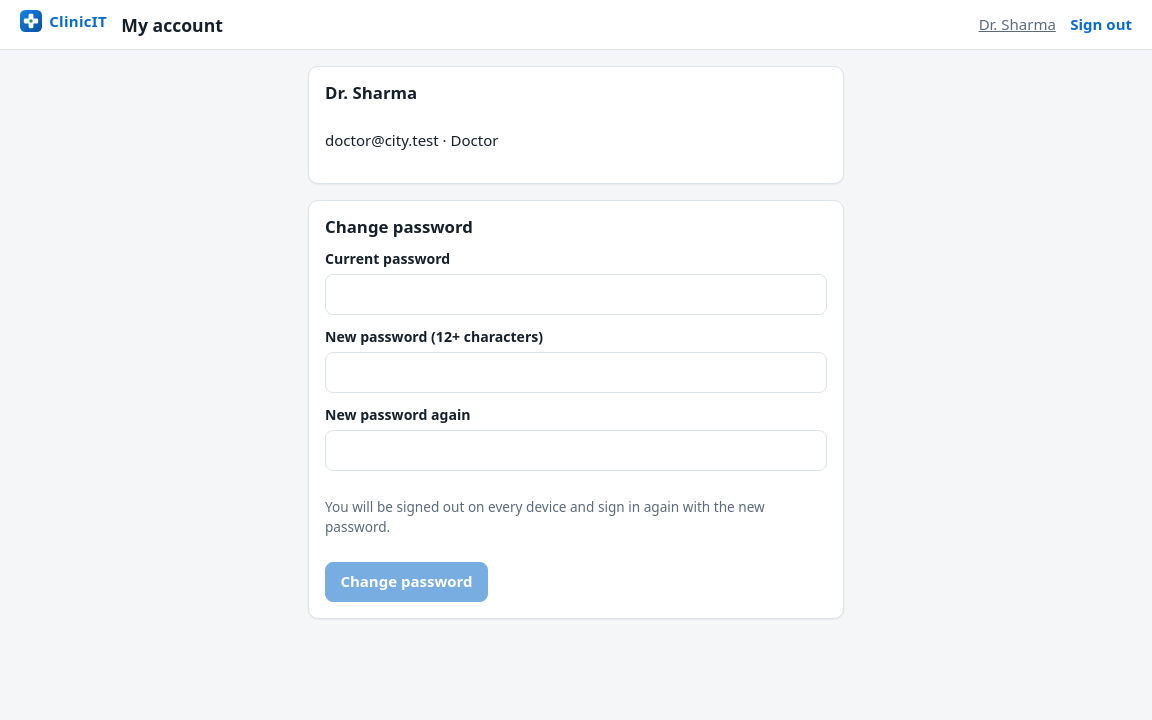
Test case: AccountScreen › will not send mismatched new passwords
The width and height of the screenshot is (1152, 720).
Type "old-password-123" into the password field labelled "Current password".
click(576, 295); type("old-password-123")  # box [325,274,827,315]
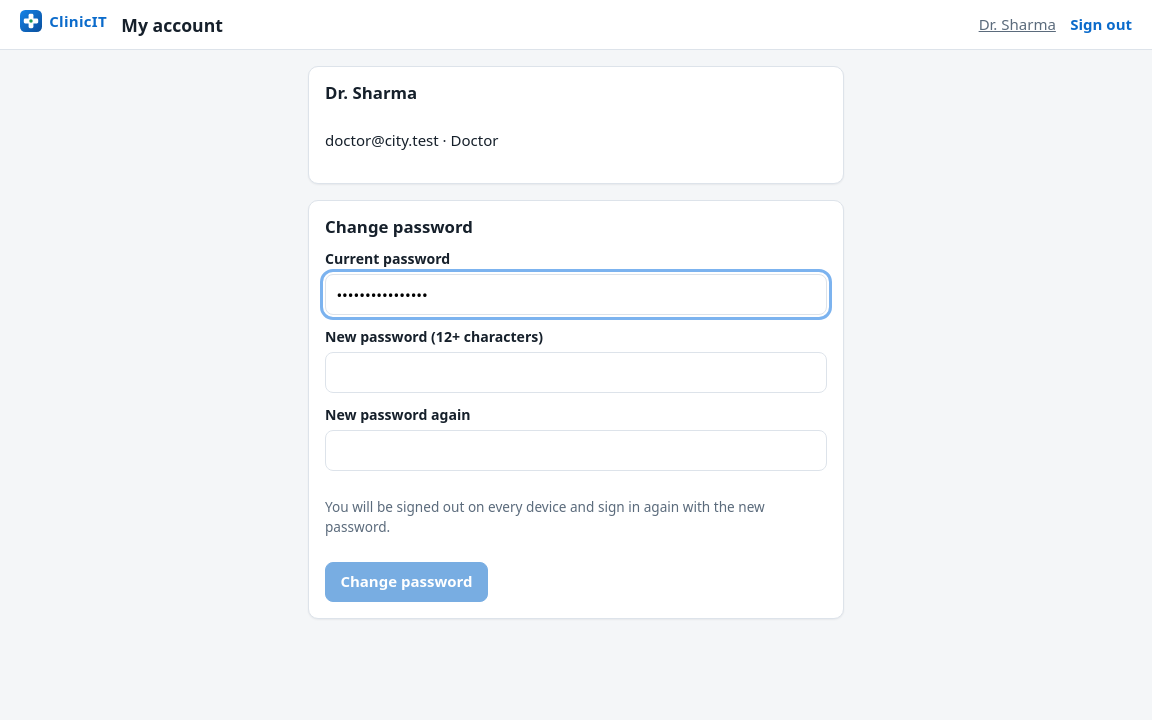
Type "a-brand-new-password" into the password field labelled "New password (12+ characters)".
click(576, 373); type("a-brand-new-password")  # box [325,352,827,393]
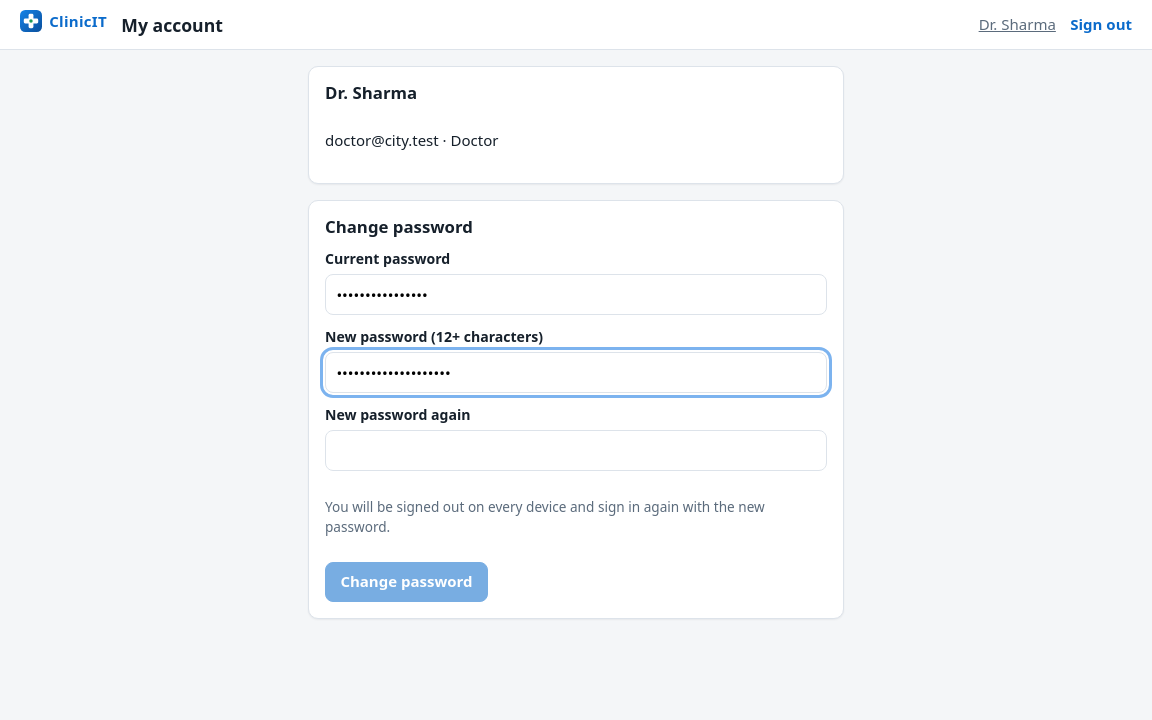
Type "a-different-password" into the password field labelled "New password again".
click(576, 451); type("a-different-password")  # box [325,430,827,471]
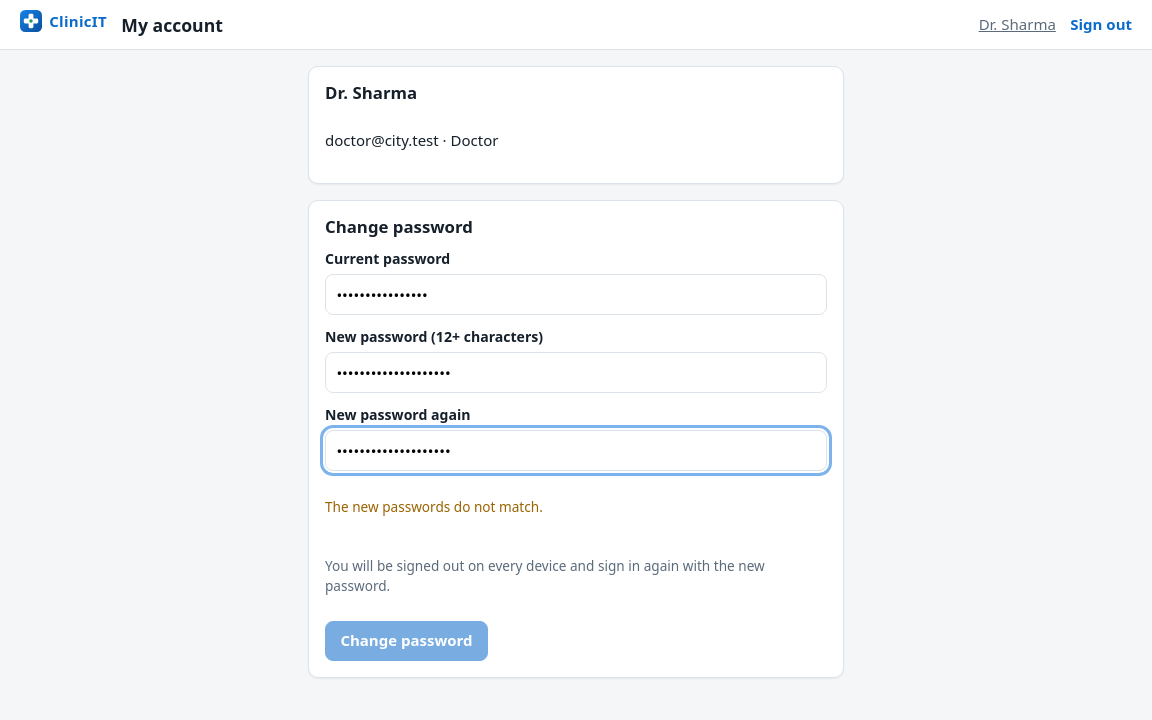
Expected: the button "Change password" is disabled, [325,621,488,661]
Result: the text "The new passwords do not match." is shown at [325,497,543,516]
